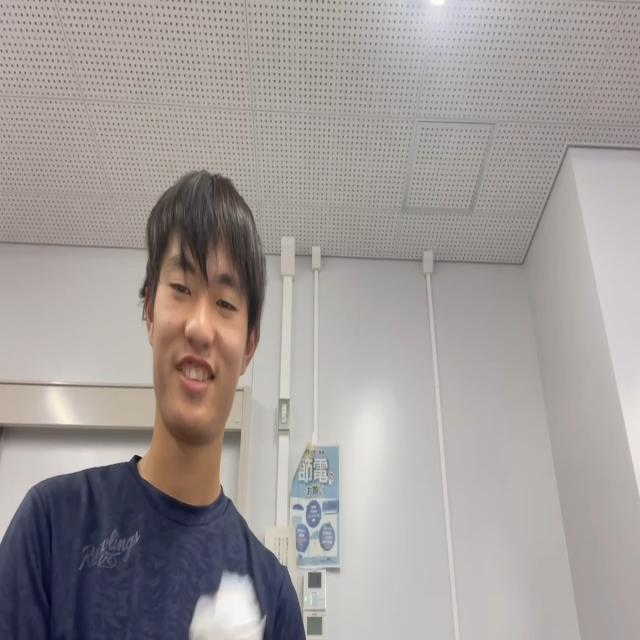paper: (188, 569, 266, 639)
